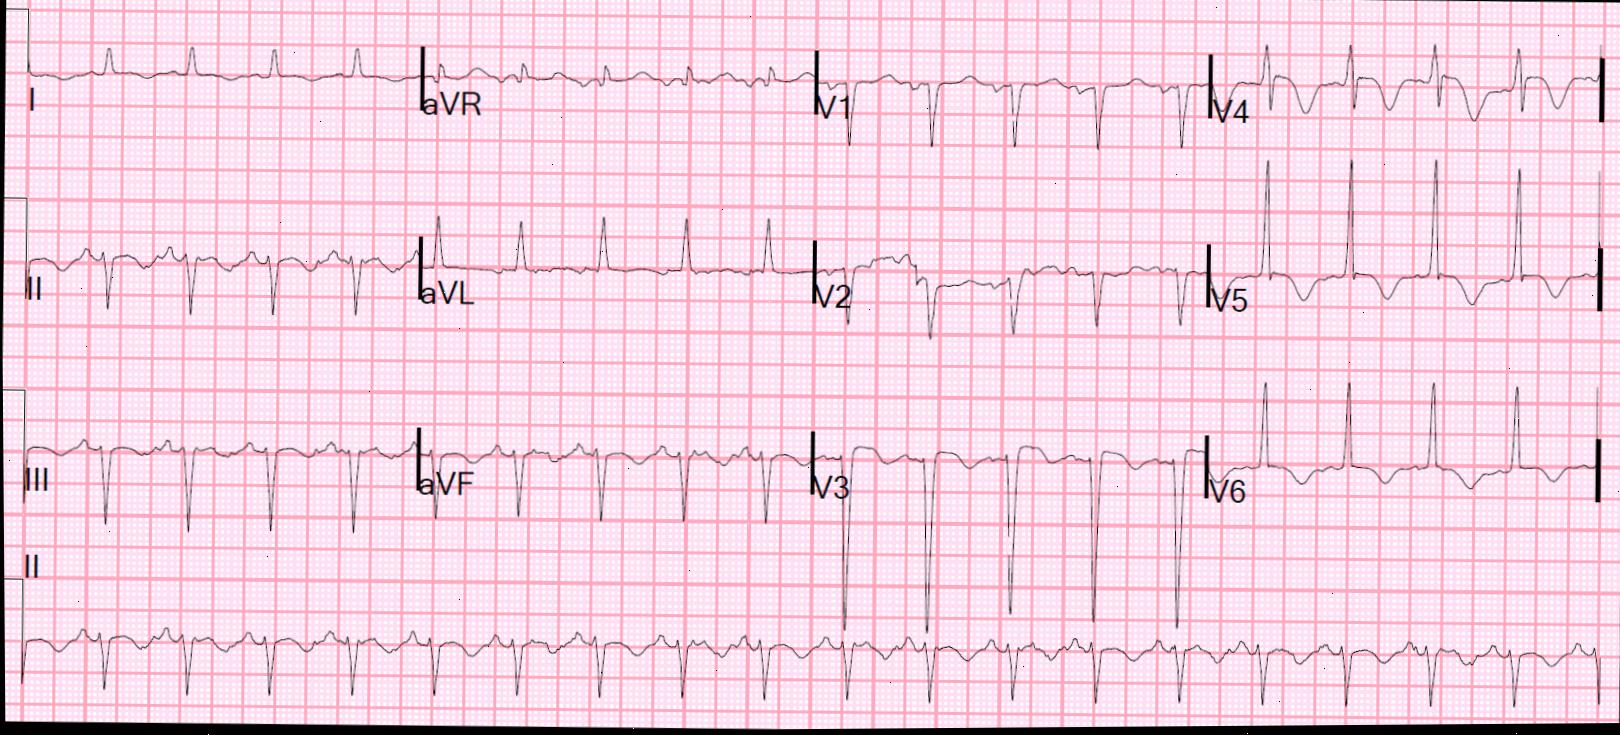Lead_I: (21, 17, 423, 150)
Lead_II: (24, 196, 420, 340)
Lead_III: (22, 398, 418, 551)
Lead_II_ext: (13, 535, 1609, 729)
Lead_V1: (814, 17, 1211, 182)
Lead_V2: (809, 200, 1211, 366)
Lead_V3: (805, 396, 1211, 645)
Lead_V4: (1209, 16, 1612, 156)
Lead_V5: (1205, 136, 1603, 366)
Lead_V6: (1207, 343, 1600, 547)
Lead_aVF: (411, 399, 815, 555)
Lead_aVL: (415, 191, 816, 353)
Lead_aVR: (417, 14, 819, 150)
